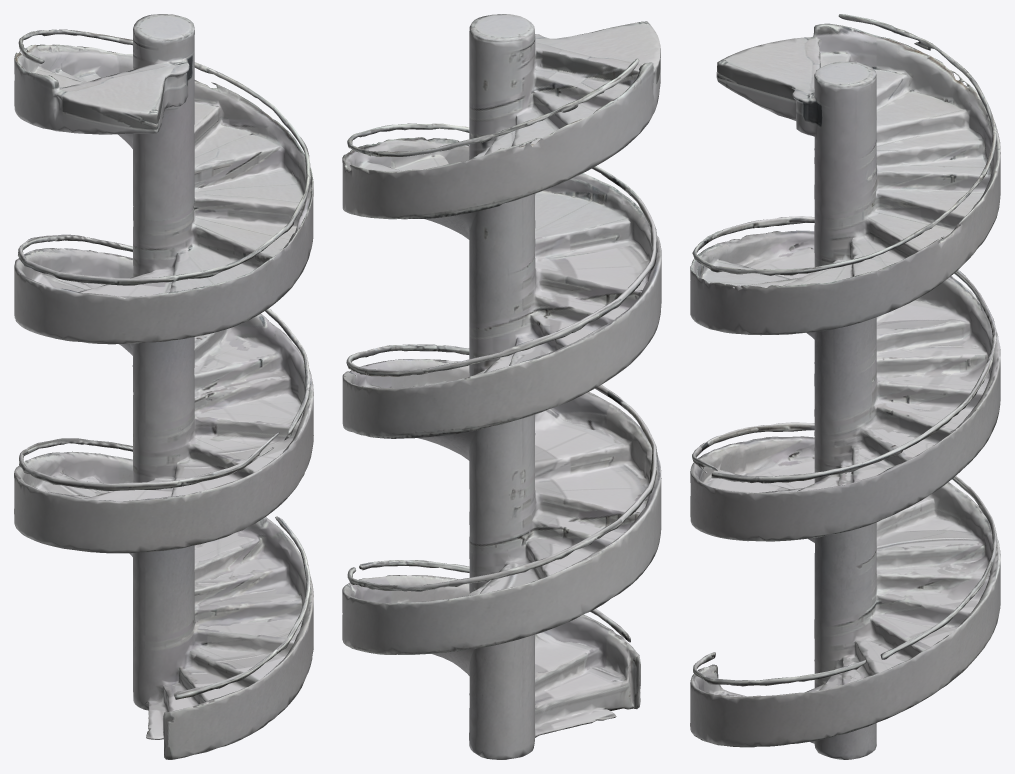
The model's file is DDP_나선램프.glb.
3 renders of one model, left to right at view 1: azimuth 30°, elevation 25°; view 2: azimuth 150°, elevation 25°; view 3: azimuth 270°, elevation 25°, orthographic. The views are drawn at different scales.
Parts seen in each view (by area): view 1: texture_mapping; view 2: texture_mapping; view 3: texture_mapping.
Boxes of the visible parts, x1,y1,x2,y2 form: texture_mapping: (14,14,313,759); texture_mapping: (342,14,661,759); texture_mapping: (690,14,1000,759).
Size of the model in its own units: 0.4052 by 1 by 0.4185.
1 material, 1 textured.
